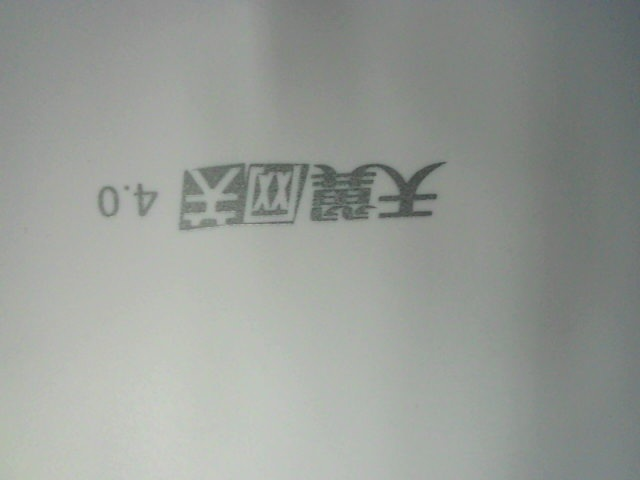BM_TianYiWangGuan: (92, 151, 448, 231)
